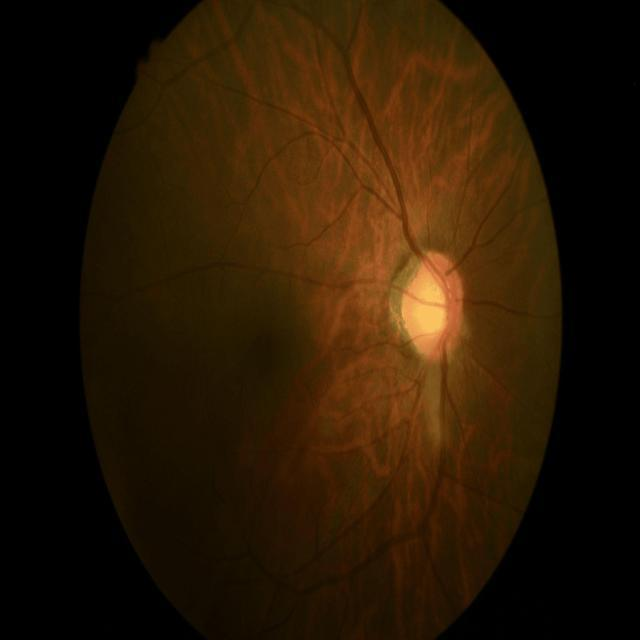cup: (416, 264, 452, 344)
disk: (390, 248, 468, 362)
